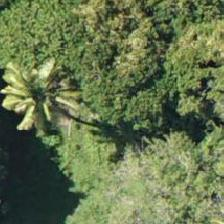coconut_tree: (4, 38, 94, 128)
